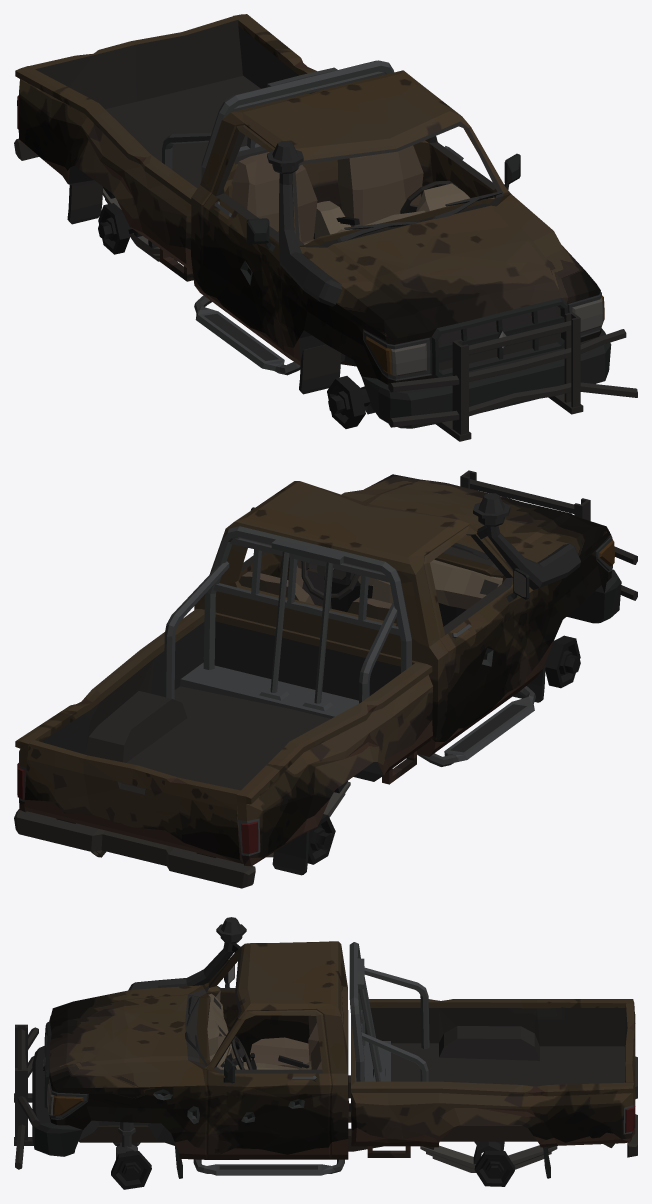
The model's file is SM_Veh_Pickup_Technical_Destroyed_01.fbx.
The picture shows the model from 3 angles, top to bottom: view 1: azimuth 30°, elevation 25°; view 2: azimuth 150°, elevation 25°; view 3: azimuth 270°, elevation 25°; orthographic projection. The views are drawn at different scales.
Parts seen in each view (by area): view 1: SM_Veh_Pickup_Technical_Destroyed_01; view 2: SM_Veh_Pickup_Technical_Destroyed_01; view 3: SM_Veh_Pickup_Technical_Destroyed_01.
Boxes of the visible parts, box(x1,y1,x2,y2) form: SM_Veh_Pickup_Technical_Destroyed_01: box(14, 14, 637, 441); SM_Veh_Pickup_Technical_Destroyed_01: box(14, 470, 637, 888); SM_Veh_Pickup_Technical_Destroyed_01: box(14, 917, 637, 1189).
Bounding box in the file's own units: 236 × 195 × 587.
